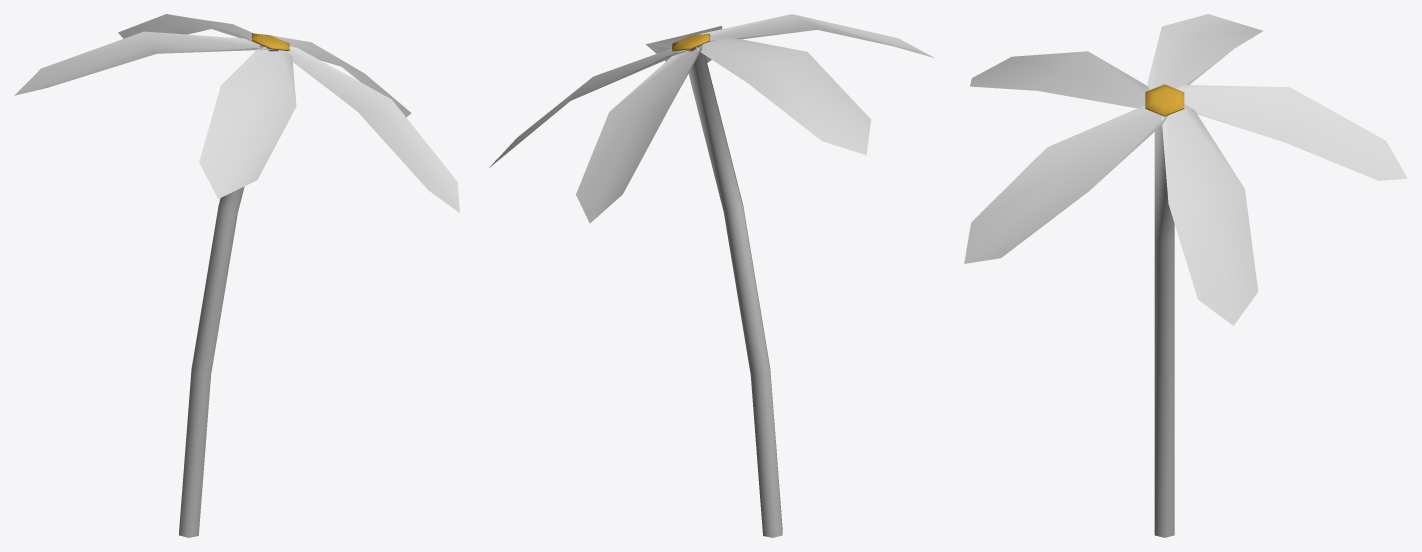
Rendered from flower.fbx.
The picture shows the model from 3 angles, left to right: view 1: azimuth 30°, elevation 25°; view 2: azimuth 150°, elevation 25°; view 3: azimuth 270°, elevation 25°; orthographic projection.
Parts seen in each view (by area): view 1: Polygon_3, Cylinder, Polygon_2, Polygon_4, Polygon_0, Polygon_1; view 2: Cylinder, Polygon_4, Polygon_0, Polygon_3, Polygon_1; view 3: Polygon_1, Polygon_2, Polygon_0, Cylinder, Polygon_3, Polygon_4.
Part boxes in pixels (box(x1,y1,x2,y2)): Polygon_3: box(199, 47, 296, 198); Cylinder: box(179, 33, 289, 537); Polygon_2: box(278, 46, 459, 212); Polygon_4: box(14, 31, 273, 95); Polygon_0: box(118, 14, 262, 45); Polygon_1: box(266, 34, 411, 117); Cylinder: box(672, 33, 782, 537); Polygon_4: box(696, 35, 871, 155); Polygon_0: box(576, 44, 702, 223); Polygon_3: box(700, 14, 934, 57); Polygon_1: box(489, 48, 690, 167); Polygon_1: box(1161, 104, 1258, 325); Polygon_2: box(964, 106, 1168, 263); Polygon_0: box(1176, 85, 1407, 180); Cylinder: box(1145, 84, 1184, 537); Polygon_3: box(970, 51, 1152, 108); Polygon_4: box(1147, 14, 1262, 90).
Size of the model in its own units: 39.03 by 47.4 by 38.87.
